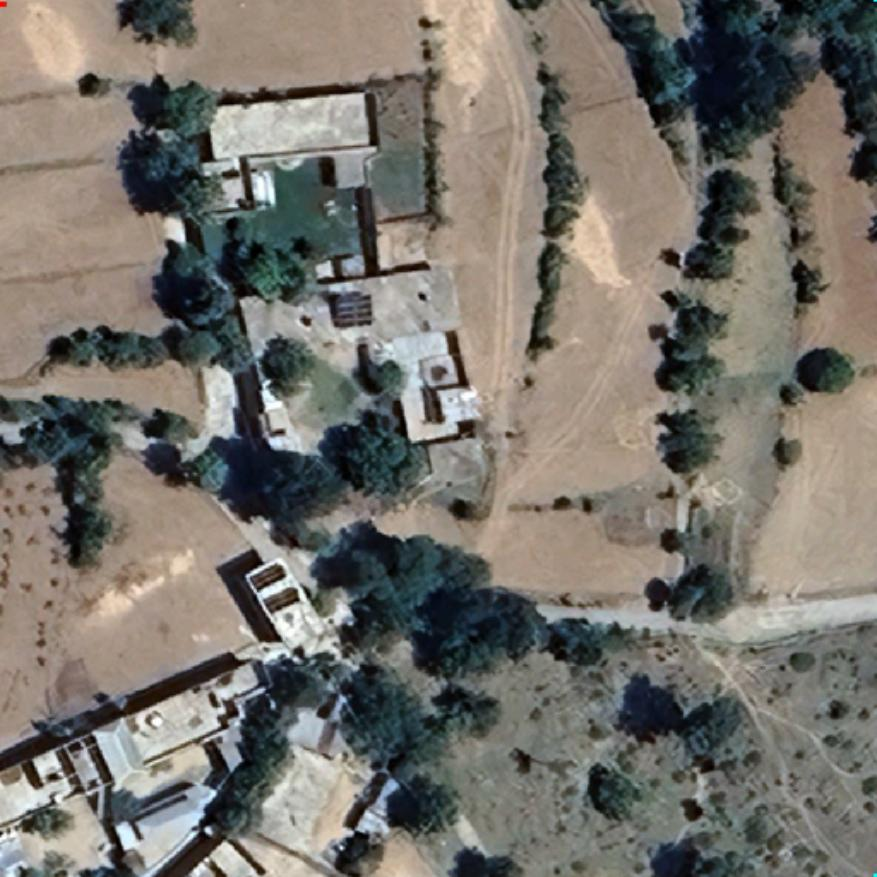Solarpanel: (330, 288, 376, 330), (245, 558, 292, 594), (258, 584, 304, 617)
